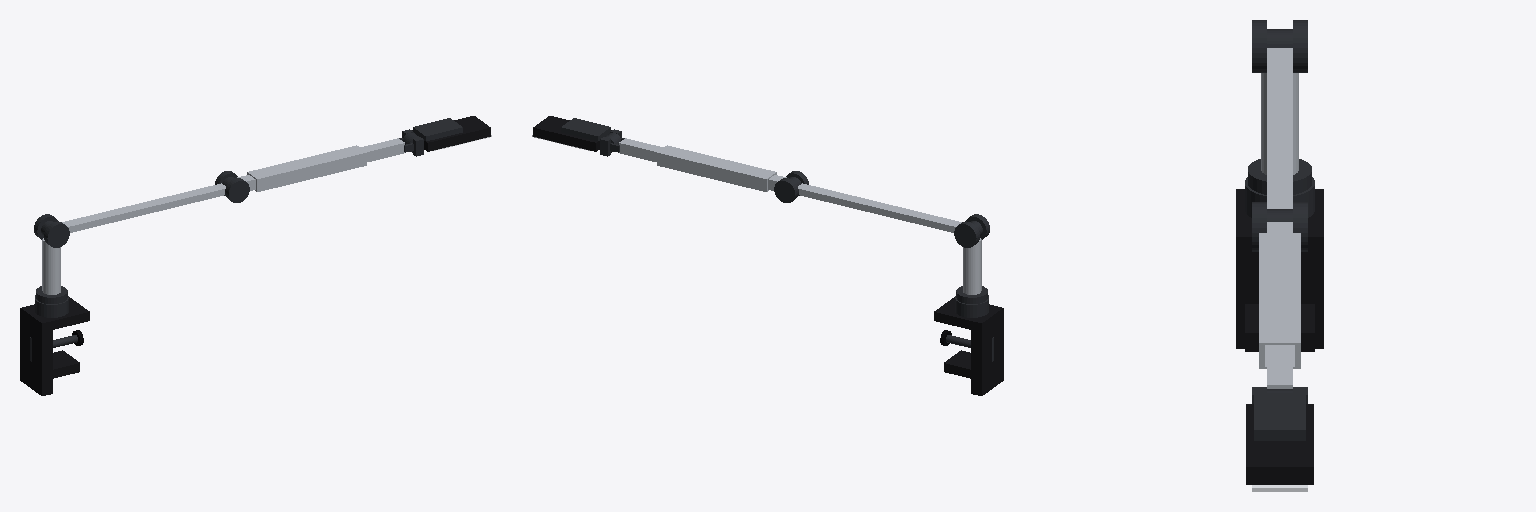
robot.urdf — clamp_monitor_task_lamp:
<robot name="clamp_monitor_task_lamp">
  <material name="matte_black">
    <color rgba="0.13 0.13 0.14 1" />
    </material>
  <material name="graphite">
    <color rgba="0.22 0.23 0.25 1" />
    </material>
  <material name="aluminum">
    <color rgba="0.74 0.76 0.79 1" />
    </material>
  <material name="diffuser_white">
    <color rgba="0.94 0.95 0.97 1" />
    </material>
  <material name="rubber">
    <color rgba="0.08 0.08 0.09 1" />
    </material>
  <link name="base">
    <inertial>
      <origin xyz="-0.004 0 0.07" rpy="0 0 0" />
      <mass value="1.6" />
      <inertia ixx="0.00326667" ixy="0" ixz="0" iyy="0.00357667" iyz="0" izz="0.00161667" />
      </inertial>
    <visual name="rear_spine">
      <origin xyz="-0.032 0 0.056" rpy="0 0 0" />
      <geometry>
        <box size="0.018 0.06 0.112" />
        </geometry>
      <material name="matte_black">
        <color rgba="0.13 0.13 0.14 1" />
        </material>
      </visual>
    <visual name="upper_jaw">
      <origin xyz="-0.001 0 0.105" rpy="0 0 0" />
      <geometry>
        <box size="0.074 0.06 0.014" />
        </geometry>
      <material name="matte_black">
        <color rgba="0.13 0.13 0.14 1" />
        </material>
      </visual>
    <visual name="lower_jaw">
      <origin xyz="-0.007 0 0.027" rpy="0 0 0" />
      <geometry>
        <box size="0.062 0.048 0.014" />
        </geometry>
      <material name="matte_black">
        <color rgba="0.13 0.13 0.14 1" />
        </material>
      </visual>
    <visual name="swivel_boss">
      <origin xyz="-0.008 0 0.122" rpy="0 0 0" />
      <geometry>
        <cylinder radius="0.024" length="0.02" />
        </geometry>
      <material name="graphite">
        <color rgba="0.22 0.23 0.25 1" />
        </material>
      </visual>
    <visual name="clamp_screw">
      <origin xyz="-0.003 0 0.06" rpy="0 1.5708 0" />
      <geometry>
        <cylinder radius="0.0055" length="0.07" />
        </geometry>
      <material name="graphite">
        <color rgba="0.22 0.23 0.25 1" />
        </material>
      </visual>
    <visual name="screw_handle">
      <origin xyz="-0.038 0 0.06" rpy="0 0 0" />
      <geometry>
        <cylinder radius="0.004" length="0.036" />
        </geometry>
      <material name="graphite">
        <color rgba="0.22 0.23 0.25 1" />
        </material>
      </visual>
    <visual name="pressure_pad">
      <origin xyz="0.034 0 0.06" rpy="0 1.5708 0" />
      <geometry>
        <cylinder radius="0.011" length="0.006" />
        </geometry>
      <material name="rubber">
        <color rgba="0.08 0.08 0.09 1" />
        </material>
      </visual>
    </link>
  <link name="post">
    <inertial>
      <origin xyz="0 0 0.06" rpy="0 0 0" />
      <mass value="0.55" />
      <inertia ixx="0.000774583" ixy="0" ixz="0" iyy="0.000774583" iyz="0" izz="0.000229167" />
      </inertial>
    <visual name="swivel_collar">
      <origin xyz="0 0 0.005" rpy="0 0 0" />
      <geometry>
        <cylinder radius="0.022" length="0.01" />
        </geometry>
      <material name="graphite">
        <color rgba="0.22 0.23 0.25 1" />
        </material>
      </visual>
    <visual name="post_tube">
      <origin xyz="0 0 0.05" rpy="0 0 0" />
      <geometry>
        <cylinder radius="0.013" length="0.08" />
        </geometry>
      <material name="aluminum">
        <color rgba="0.74 0.76 0.79 1" />
        </material>
      </visual>
    <visual name="shoulder_cheek_left">
      <origin xyz="0 -0.014 0.102" rpy="1.5708 0 0" />
      <geometry>
        <cylinder radius="0.018" length="0.01" />
        </geometry>
      <material name="graphite">
        <color rgba="0.22 0.23 0.25 1" />
        </material>
      </visual>
    <visual name="shoulder_cheek_right">
      <origin xyz="0 0.014 0.102" rpy="1.5708 0 0" />
      <geometry>
        <cylinder radius="0.018" length="0.01" />
        </geometry>
      <material name="graphite">
        <color rgba="0.22 0.23 0.25 1" />
        </material>
      </visual>
    </link>
  <link name="upper_arm">
    <inertial>
      <origin xyz="0.155 0 0" rpy="0 0 0" />
      <mass value="0.8" />
      <inertia ixx="0.000333333" ixy="0" ixz="0" iyy="0.00657333" iyz="0" izz="0.00657333" />
      </inertial>
    <visual name="shoulder_barrel">
      <origin xyz="0 0 0" rpy="1.5708 0 0" />
      <geometry>
        <cylinder radius="0.012" length="0.018" />
        </geometry>
      <material name="graphite">
        <color rgba="0.22 0.23 0.25 1" />
        </material>
      </visual>
    <visual name="upper_arm_beam">
      <origin xyz="0.145 0 0" rpy="0 0 0" />
      <geometry>
        <box size="0.266 0.018 0.01" />
        </geometry>
      <material name="aluminum">
        <color rgba="0.74 0.76 0.79 1" />
        </material>
      </visual>
    <visual name="elbow_cheek_left">
      <origin xyz="0.29 -0.014 0" rpy="1.5708 0 0" />
      <geometry>
        <cylinder radius="0.017" length="0.01" />
        </geometry>
      <material name="graphite">
        <color rgba="0.22 0.23 0.25 1" />
        </material>
      </visual>
    <visual name="elbow_cheek_right">
      <origin xyz="0.29 0.014 0" rpy="1.5708 0 0" />
      <geometry>
        <cylinder radius="0.017" length="0.01" />
        </geometry>
      <material name="graphite">
        <color rgba="0.22 0.23 0.25 1" />
        </material>
      </visual>
    </link>
  <link name="forearm_sleeve">
    <inertial>
      <origin xyz="0.108 0 0" rpy="0 0 0" />
      <mass value="0.65" />
      <inertia ixx="0.000196354" ixy="0" ixz="0" iyy="0.00261354" iyz="0" izz="0.00259052" />
      </inertial>
    <visual name="elbow_barrel">
      <origin xyz="0 0 0" rpy="1.5708 0 0" />
      <geometry>
        <cylinder radius="0.012" length="0.018" />
        </geometry>
      <material name="graphite">
        <color rgba="0.22 0.23 0.25 1" />
        </material>
      </visual>
    <visual name="sleeve_neck">
      <origin xyz="0.016 0 0" rpy="0 0 0" />
      <geometry>
        <box size="0.032 0.018 0.016" />
        </geometry>
      <material name="aluminum">
        <color rgba="0.74 0.76 0.79 1" />
        </material>
      </visual>
    <visual name="sleeve_top">
      <origin xyz="0.12 0 0.009" rpy="0 0 0" />
      <geometry>
        <box size="0.176 0.028 0.002" />
        </geometry>
      <material name="aluminum">
        <color rgba="0.74 0.76 0.79 1" />
        </material>
      </visual>
    <visual name="sleeve_bottom">
      <origin xyz="0.12 0 -0.009" rpy="0 0 0" />
      <geometry>
        <box size="0.176 0.028 0.002" />
        </geometry>
      <material name="aluminum">
        <color rgba="0.74 0.76 0.79 1" />
        </material>
      </visual>
    <visual name="sleeve_side_left">
      <origin xyz="0.12 -0.012 0" rpy="0 0 0" />
      <geometry>
        <box size="0.176 0.004 0.018" />
        </geometry>
      <material name="aluminum">
        <color rgba="0.74 0.76 0.79 1" />
        </material>
      </visual>
    <visual name="sleeve_side_right">
      <origin xyz="0.12 0.012 0" rpy="0 0 0" />
      <geometry>
        <box size="0.176 0.004 0.018" />
        </geometry>
      <material name="aluminum">
        <color rgba="0.74 0.76 0.79 1" />
        </material>
      </visual>
    </link>
  <link name="forearm_extension">
    <inertial>
      <origin xyz="-0.01 0 0" rpy="0 0 0" />
      <mass value="0.45" />
      <inertia ixx="0.00012" ixy="0" ixz="0" iyy="0.001875" iyz="0" izz="0.001875" />
      </inertial>
    <visual name="inner_rail">
      <origin xyz="-0.022 0 0" rpy="0 0 0" />
      <geometry>
        <box size="0.192 0.018 0.016" />
        </geometry>
      <material name="aluminum">
        <color rgba="0.74 0.76 0.79 1" />
        </material>
      </visual>
    <visual name="head_cheek_left">
      <origin xyz="0.092 -0.014 0" rpy="0 0 0" />
      <geometry>
        <box size="0.012 0.01 0.024" />
        </geometry>
      <material name="graphite">
        <color rgba="0.22 0.23 0.25 1" />
        </material>
      </visual>
    <visual name="head_cheek_right">
      <origin xyz="0.092 0.014 0" rpy="0 0 0" />
      <geometry>
        <box size="0.012 0.01 0.024" />
        </geometry>
      <material name="graphite">
        <color rgba="0.22 0.23 0.25 1" />
        </material>
      </visual>
    <visual name="left_yoke_arm">
      <origin xyz="0.082 -0.011 0" rpy="0 0 0" />
      <geometry>
        <box size="0.02 0.004 0.01" />
        </geometry>
      <material name="graphite">
        <color rgba="0.22 0.23 0.25 1" />
        </material>
      </visual>
    <visual name="right_yoke_arm">
      <origin xyz="0.082 0.011 0" rpy="0 0 0" />
      <geometry>
        <box size="0.02 0.004 0.01" />
        </geometry>
      <material name="graphite">
        <color rgba="0.22 0.23 0.25 1" />
        </material>
      </visual>
    </link>
  <link name="lamp_head">
    <inertial>
      <origin xyz="0.06 0 0" rpy="0 0 0" />
      <mass value="0.32" />
      <inertia ixx="0.000113333" ixy="0" ixz="0" iyy="0.000416667" iyz="0" izz="0.000464667" />
      </inertial>
    <visual name="head_barrel">
      <origin xyz="0 0 0" rpy="1.5708 0 0" />
      <geometry>
        <cylinder radius="0.012" length="0.018" />
        </geometry>
      <material name="graphite">
        <color rgba="0.22 0.23 0.25 1" />
        </material>
      </visual>
    <visual name="head_shell">
      <origin xyz="0.061 0 0" rpy="0 0 0" />
      <geometry>
        <box size="0.101 0.046 0.014" />
        </geometry>
      <material name="matte_black">
        <color rgba="0.13 0.13 0.14 1" />
        </material>
      </visual>
    <visual name="heat_sink">
      <origin xyz="0.04 0 0.011" rpy="0 0 0" />
      <geometry>
        <box size="0.06 0.036 0.008" />
        </geometry>
      <material name="graphite">
        <color rgba="0.22 0.23 0.25 1" />
        </material>
      </visual>
    <visual name="beam_diffuser">
      <origin xyz="0.068 0 -0.0085" rpy="0 0 0" />
      <geometry>
        <box size="0.094 0.038 0.003" />
        </geometry>
      <material name="diffuser_white">
        <color rgba="0.94 0.95 0.97 1" />
        </material>
      </visual>
    </link>
  <joint name="base_to_post_swivel" type="revolute">
    <origin xyz="-0.008 0 0.132" rpy="0 0 0" />
    <parent link="base" />
    <child link="post" />
    <axis xyz="0 0 1" />
    <limit effort="18" velocity="2" lower="-1.7" upper="1.7" />
    </joint>
  <joint name="post_to_upper_arm_shoulder" type="revolute">
    <origin xyz="0 0 0.102" rpy="0 0 0" />
    <parent link="post" />
    <child link="upper_arm" />
    <axis xyz="0 -1 0" />
    <limit effort="16" velocity="1.8" lower="-0.55" upper="1.25" />
    </joint>
  <joint name="upper_arm_to_forearm_elbow" type="revolute">
    <origin xyz="0.29 0 0" rpy="0 0 0" />
    <parent link="upper_arm" />
    <child link="forearm_sleeve" />
    <axis xyz="0 -1 0" />
    <limit effort="14" velocity="2" lower="-0.25" upper="1.55" />
    </joint>
  <joint name="forearm_sleeve_to_extension" type="prismatic">
    <origin xyz="0.198 0 0" rpy="0 0 0" />
    <parent link="forearm_sleeve" />
    <child link="forearm_extension" />
    <axis xyz="1 0 0" />
    <limit effort="30" velocity="0.12" lower="0" upper="0.08" />
    </joint>
  <joint name="extension_to_head_tilt" type="revolute">
    <origin xyz="0.092 0 0" rpy="0 0 0" />
    <parent link="forearm_extension" />
    <child link="lamp_head" />
    <axis xyz="0 -1 0" />
    <limit effort="6" velocity="2.2" lower="-0.95" upper="0.55" />
    </joint>
  </robot>

--- Facts derived from the render (not from the file) ---
3 views of the same robot in one strip: view 1: azimuth 30°, elevation 25°; view 2: azimuth 150°, elevation 25°; view 3: azimuth 270°, elevation 25° (orthographic).
Model clamp_monitor_task_lamp with 6 links and 5 joints (4 revolute, 1 prismatic), rooted at base, posed all joints at 0.
Links seen in each view (by area): view 1: base, forearm_sleeve, upper_arm, post, lamp_head, forearm_extension; view 2: base, forearm_sleeve, upper_arm, post, lamp_head, forearm_extension; view 3: base, lamp_head, upper_arm, forearm_sleeve, post, forearm_extension.
Boxes of the visible links, x1=… form: base: x1=20, y1=295, x2=89, y2=395; forearm_sleeve: x1=222, y1=145, x2=366, y2=191; upper_arm: x1=41, y1=171, x2=249, y2=235; post: x1=34, y1=214, x2=69, y2=303; lamp_head: x1=403, y1=116, x2=491, y2=152; forearm_extension: x1=360, y1=129, x2=423, y2=161; base: x1=934, y1=295, x2=1003, y2=395; forearm_sleeve: x1=657, y1=145, x2=801, y2=191; upper_arm: x1=774, y1=171, x2=982, y2=235; post: x1=954, y1=214, x2=989, y2=303; lamp_head: x1=532, y1=116, x2=620, y2=152; forearm_extension: x1=600, y1=129, x2=663, y2=161; base: x1=1236, y1=177, x2=1323, y2=351; lamp_head: x1=1246, y1=389, x2=1313, y2=491; upper_arm: x1=1252, y1=29, x2=1307, y2=251; forearm_sleeve: x1=1259, y1=209, x2=1300, y2=368; post: x1=1248, y1=20, x2=1311, y2=194; forearm_extension: x1=1252, y1=345, x2=1307, y2=403.
Bounding box of the posed robot: 0.729 × 0.06 × 0.252 m (x, y, z).
Geometry: primitives only (box / cylinder / sphere), no mesh files.
